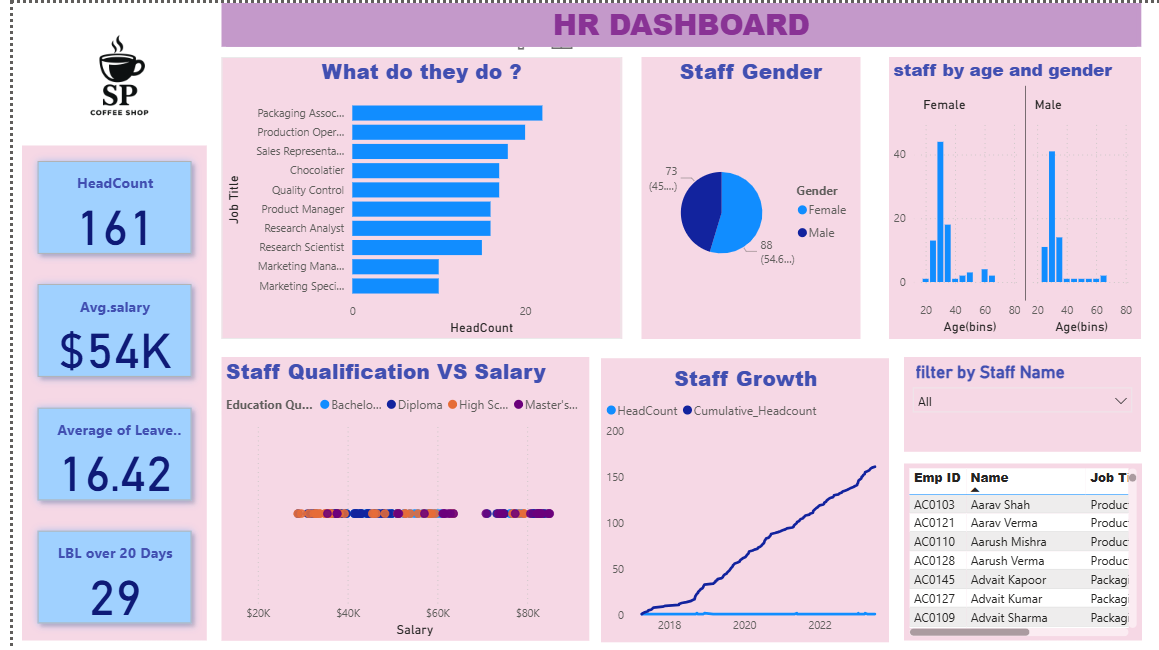

The dashboard page shown, as its layout file describes it:
{"tool":"powerbi","page":{"name":"Page 10","canvas":[1280,720],"ordinal":9},"visuals":[{"type":"cardVisual","fields":{"Data":["Staff.HeadCount","Staff.Avg.salary","Avg(Staff.Leave Balance)","Staff.LBL over 20 Days"]},"box":[10,158.3,205,550],"z":0},{"type":"clusteredBarChart","title":"What do they do ?","fields":{"Category":["Staff.Job Title"],"Y":["Staff.HeadCount"]},"box":[231.7,60,445,313.3],"z":1000},{"type":"pieChart","title":"Staff Gender","fields":{"Category":["Staff.Gender"],"Y":["Staff.HeadCount"]},"box":[698.3,60,243.3,313.3],"z":2000},{"type":"clusteredColumnChart","title":"staff by age and gender","fields":{"Category":["Staff.Age(bins)"],"Y":["Staff.HeadCount"],"Rows":["Staff.Gender"]},"box":[973.3,60,280,313.3],"z":3000},{"type":"scatterChart","title":"Staff Qualification VS Salary","fields":{"X":["Staff.Salary"],"Series":["Staff.Education Qualification"]},"box":[231.7,393.3,408.3,315],"z":4000},{"type":"lineChart","title":"Staff Growth","fields":{"Y":["Staff.HeadCount","Staff.Cumulative_Headcount"],"Category":["Staff.Date of Join"]},"box":[653.3,395,320,315],"z":5000},{"type":"image","box":[21.7,23.3,193.3,116.7],"z":6000},{"type":"textbox","title":"HR DASHBOARD","box":[231.7,0,1021.7,48.3],"z":7000},{"type":"slicer","fields":{"Values":["Staff.First Characters"]},"box":[990,393.3,263.3,105],"z":8000},{"type":"tableEx","fields":{"Values":["Staff.Emp ID","Staff.Name","Staff.Job Title","Sum(Staff.Salary)"]},"box":[990,511.7,263.3,196.7],"z":9000}]}

Visuals, with their boxes in screenshot pixels (x1, y1, x2, y2), scaled from the page's 1280x720 canvas onto the 1159x650 screenshot:
cardVisual - Staff.HeadCount x Staff.Avg.salary: [x1=9, y1=143, x2=195, y2=639]
"What do they do ?" clusteredBarChart: [x1=210, y1=54, x2=613, y2=337]
"Staff Gender" pieChart: [x1=632, y1=54, x2=853, y2=337]
"staff by age and gender" clusteredColumnChart: [x1=881, y1=54, x2=1135, y2=337]
"Staff Qualification VS Salary" scatterChart: [x1=210, y1=355, x2=580, y2=639]
"Staff Growth" lineChart: [x1=592, y1=357, x2=881, y2=641]
image: [x1=20, y1=21, x2=195, y2=126]
"HR DASHBOARD" textbox: [x1=210, y1=0, x2=1135, y2=44]
slicer - Staff.First Characters: [x1=896, y1=355, x2=1135, y2=450]
tableEx - Staff.Emp ID x Staff.Name: [x1=896, y1=462, x2=1135, y2=640]
